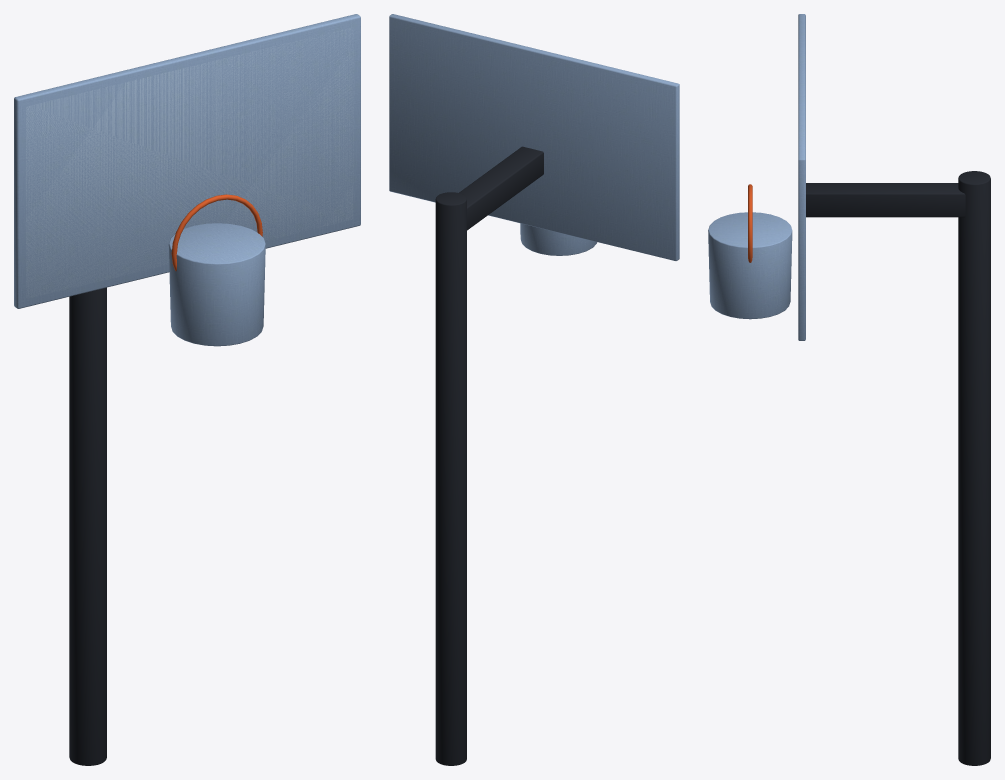
The model's file is hoop-post-9747e082790a.glb.
3 views of the same model, side by side, from view 1: azimuth 30°, elevation 25°; view 2: azimuth 150°, elevation 25°; view 3: azimuth 270°, elevation 25° (orthographic). The views are drawn at different scales.
Visible parts, largest first — view 1: Mesh_Canopy_Ivory, Mesh_Wrought_Iron, Glass_Board, Rim_Hoop; view 2: Mesh_Canopy_Ivory, Mesh_Wrought_Iron; view 3: Mesh_Wrought_Iron, Mesh_Canopy_Ivory.
Boxes of the visible parts, x1,y1,x2,y2 form: Mesh_Canopy_Ivory: (14, 14, 360, 346); Mesh_Wrought_Iron: (69, 287, 106, 765); Glass_Board: (26, 30, 352, 296); Rim_Hoop: (171, 194, 262, 271); Mesh_Canopy_Ivory: (389, 14, 679, 260); Mesh_Wrought_Iron: (435, 146, 543, 765); Mesh_Wrought_Iron: (806, 171, 990, 765); Mesh_Canopy_Ivory: (708, 14, 805, 340).
Bounding box in the file's own units: 1.8 × 3.87 × 1.47.
Materials: 4 (1 with a texture image).
